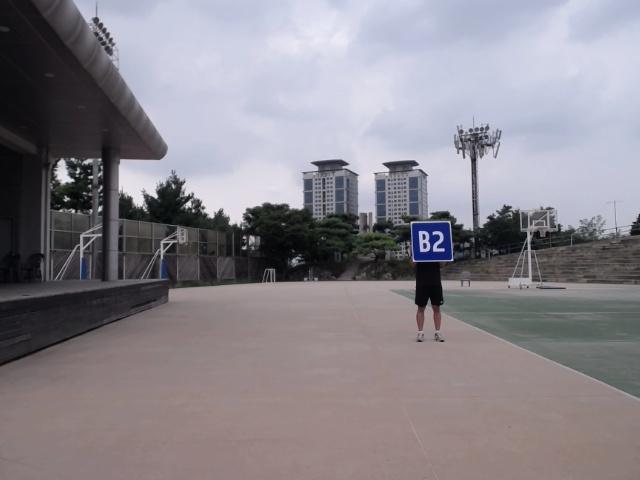delivery_b2: (409, 220, 454, 263)
